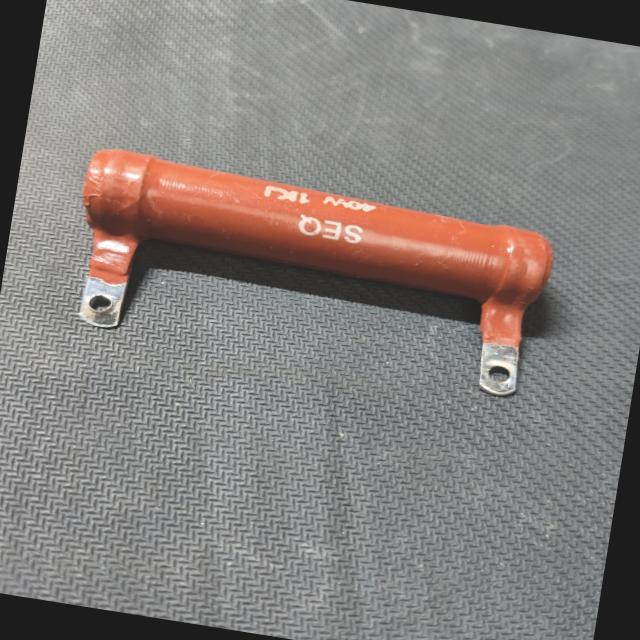resistor: (49, 137, 580, 408)
